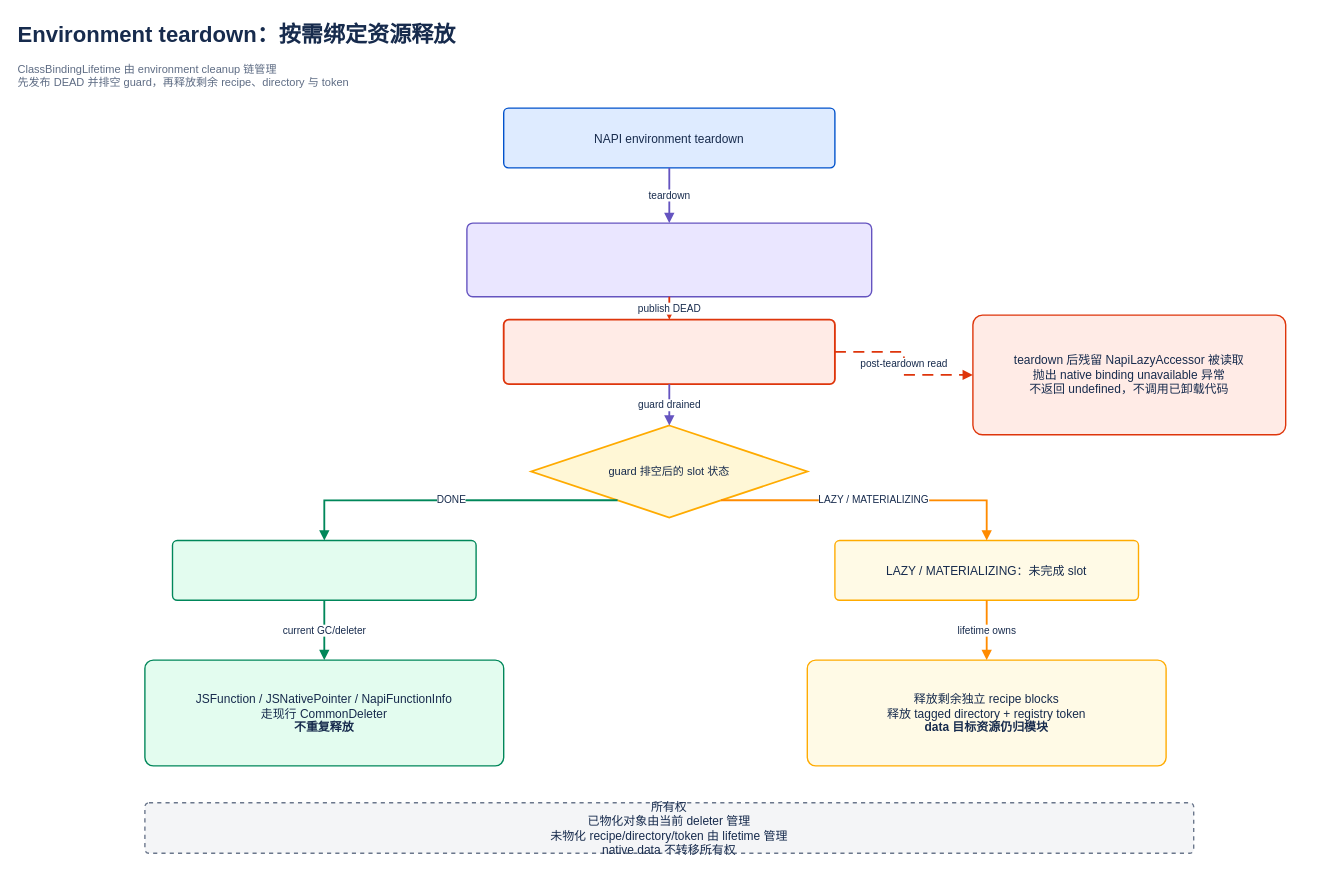
Image size: 1338x872. Some labels were removed from this diagram. The box of each missing label's shape, as (x1, y1, x2, y2) in pixels:
DONE：已物化 slot: (171, 539, 476, 601)
environment cleanup callback: ClassBindingLifetime::Release: (466, 222, 872, 297)
发布 lifetime DEAD 阻止新 guard，并等待在途 guard 排空: (502, 318, 835, 385)
